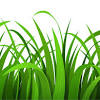grass: (1, 42, 100, 99)
